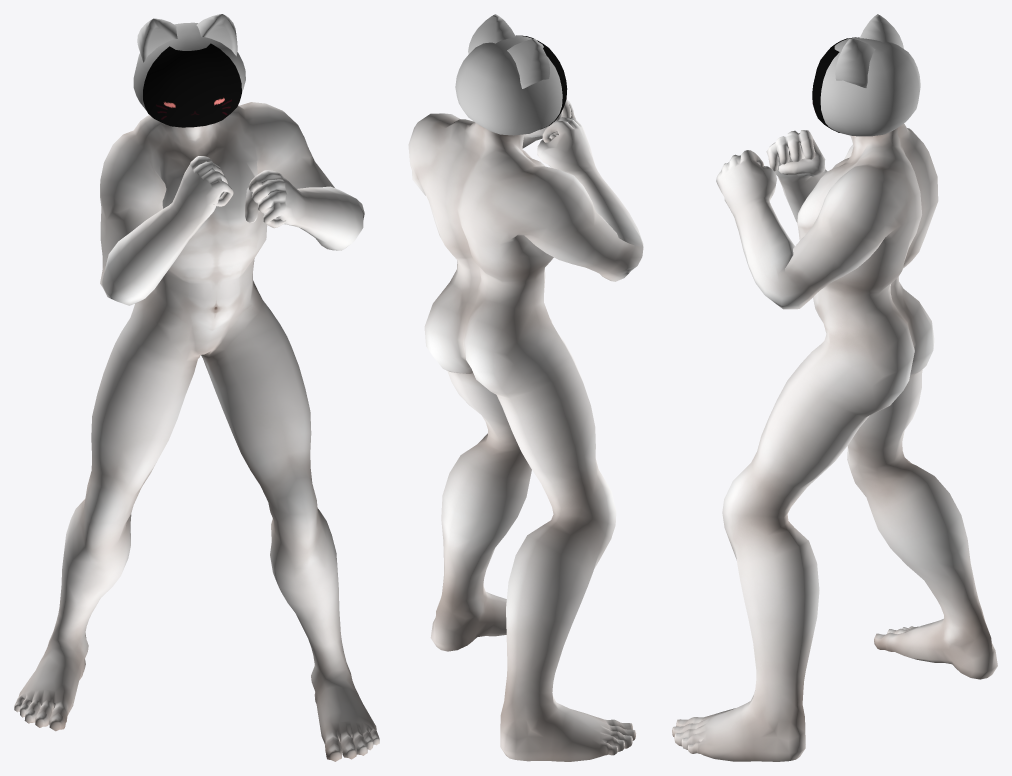
3 views of the same model, side by side, from view 1: azimuth 30°, elevation 25°; view 2: azimuth 150°, elevation 25°; view 3: azimuth 270°, elevation 25° (orthographic). The views are drawn at different scales.
Visible parts, largest first — view 1: Muscle_Body, ______?001, Cat_Head; view 2: Muscle_Body, Cat_Head, ______?001; view 3: Muscle_Body, Cat_Head, ______?001.
Part boxes in pixels (box(x1,y1,x2,y2)): Muscle_Body: box(14, 102, 379, 761); ______?001: box(143, 43, 241, 127); Cat_Head: box(133, 14, 245, 110); Muscle_Body: box(408, 99, 643, 761); Cat_Head: box(455, 14, 562, 135); ______?001: box(516, 35, 567, 129); Muscle_Body: box(672, 123, 997, 761); Cat_Head: box(820, 14, 920, 136); ______?001: box(812, 37, 856, 132).
Size of the model in its own units: 11.68 by 28.08 by 12.16.
